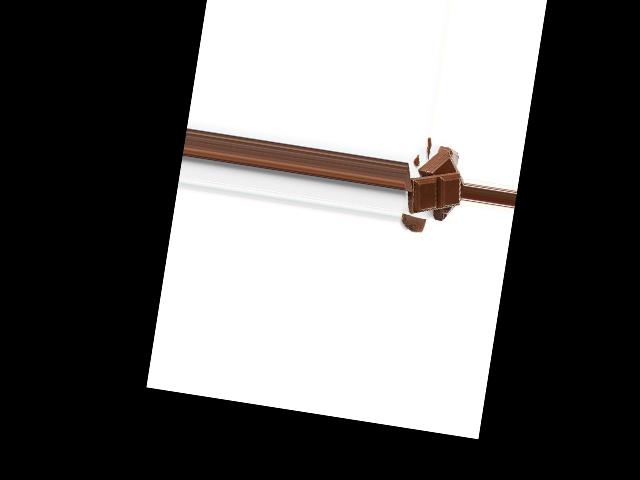chocolate: (406, 165, 462, 218)
